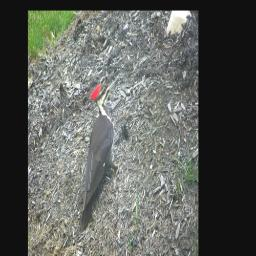Woodpecker: (76, 75, 122, 232)
